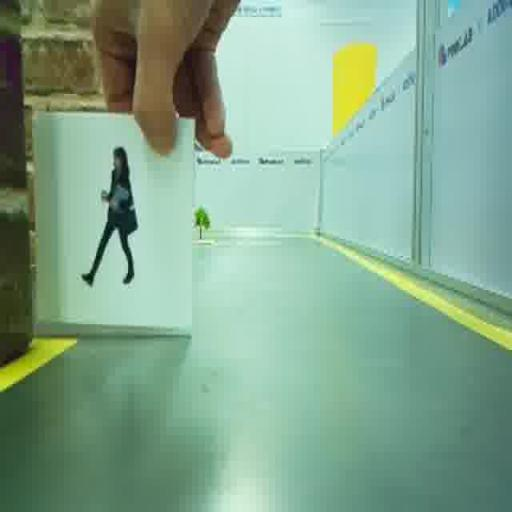human: (81, 146, 138, 286)
